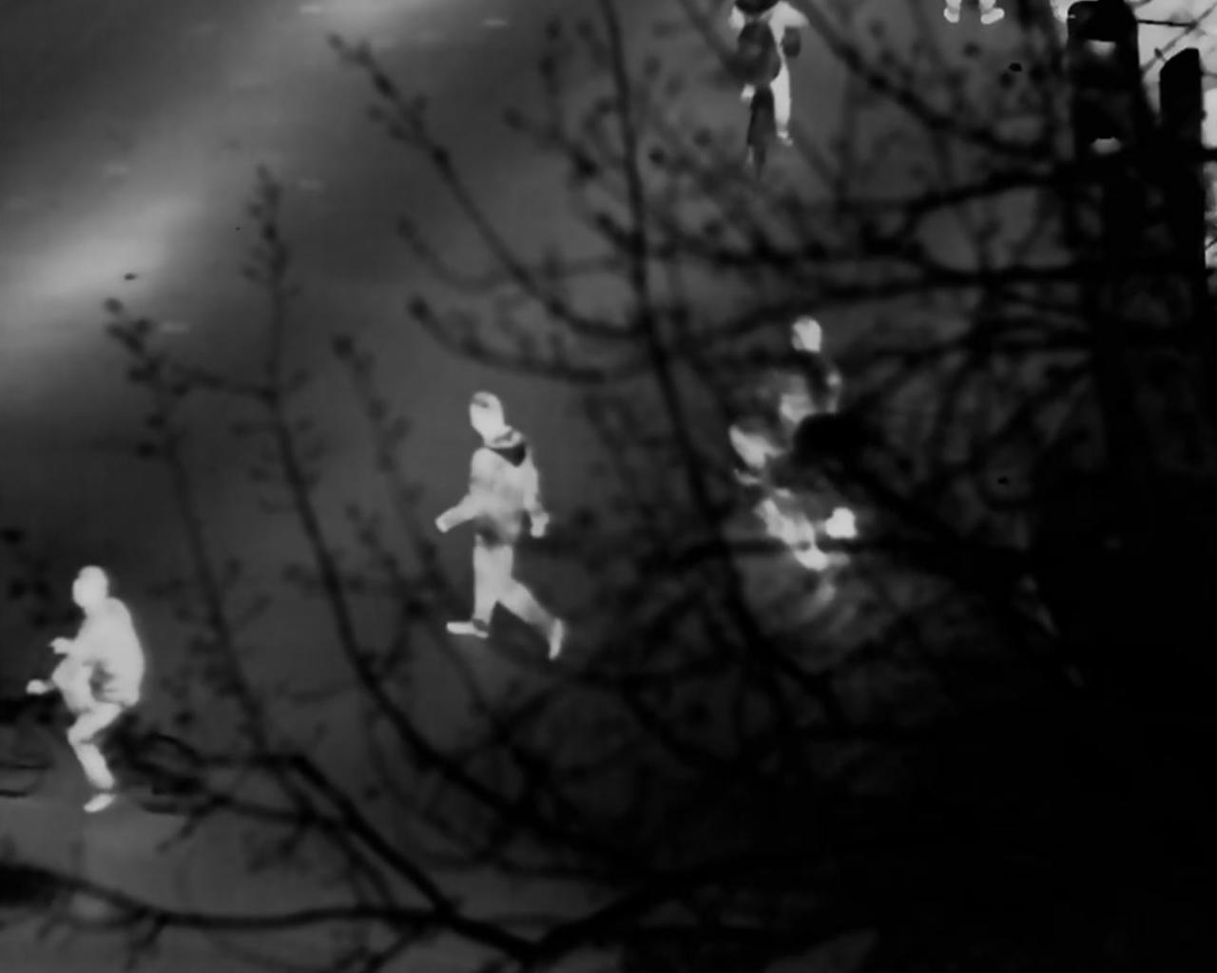person: (435, 392, 564, 646), (44, 564, 177, 787), (760, 317, 840, 582)
